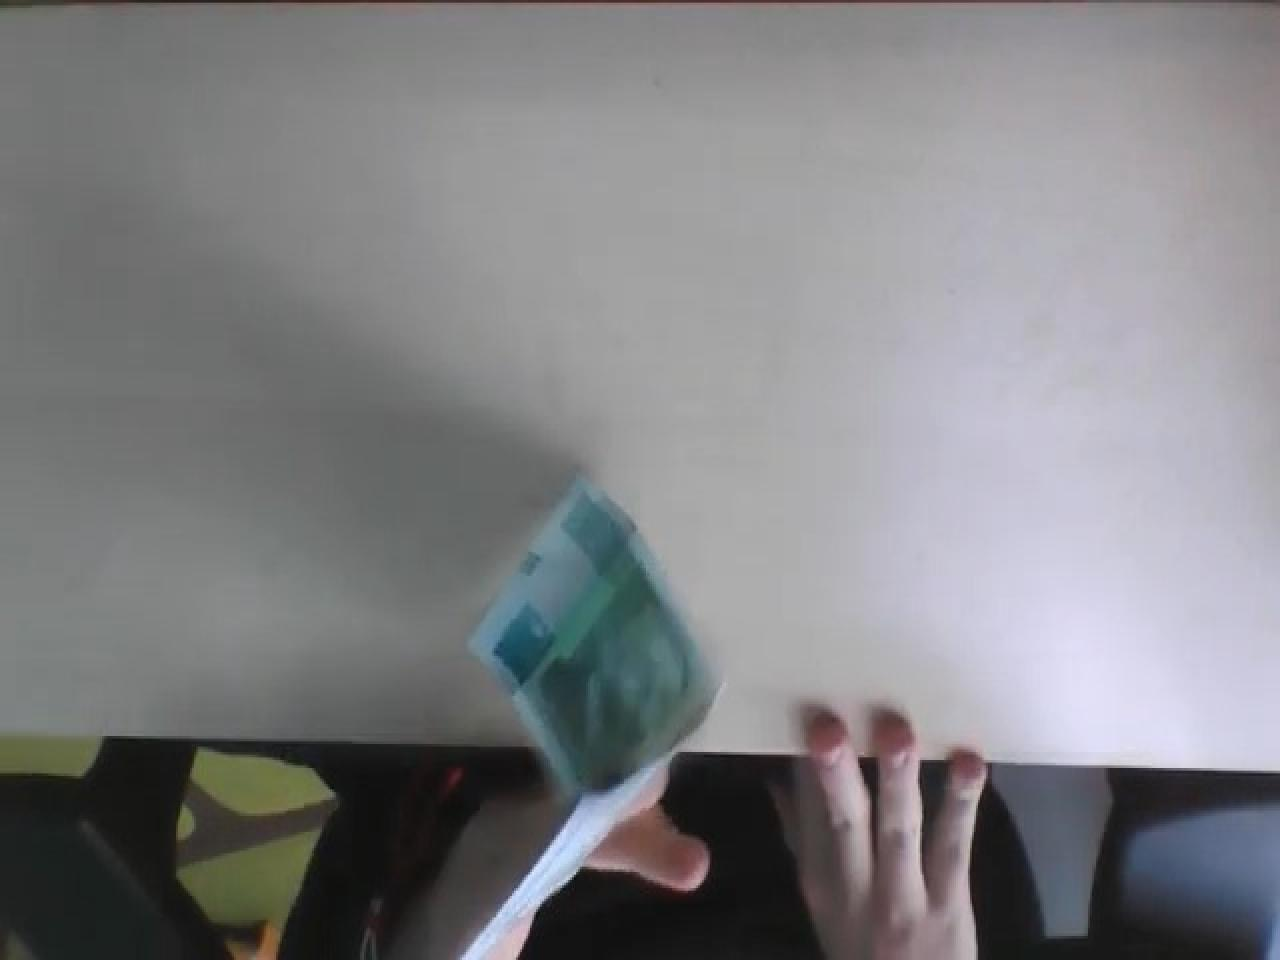100leva: (466, 469, 724, 803)
